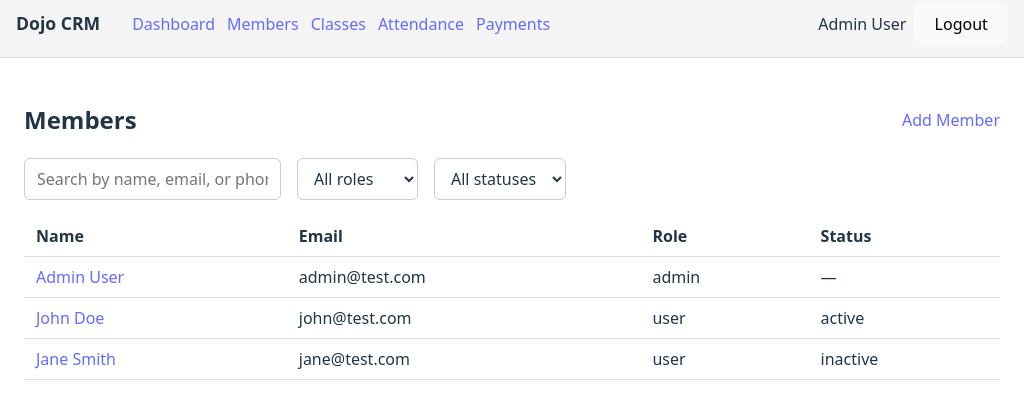
Scenario: MemberListPage › filters by search text
This screenshot has width=1024, height=397.
Expected: the link "John Doe" is shown, [36, 307, 104, 329]
Type "john" into the field named "Search members" at (152,179), box [24, 158, 281, 200]
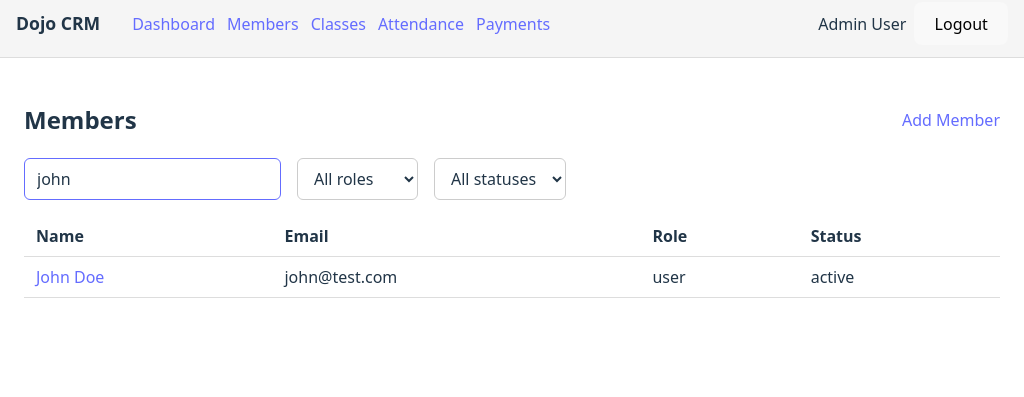
Expected: the link "John Doe" is shown, [36, 266, 104, 288]
Expected: the link "Jane Smith" is gone
